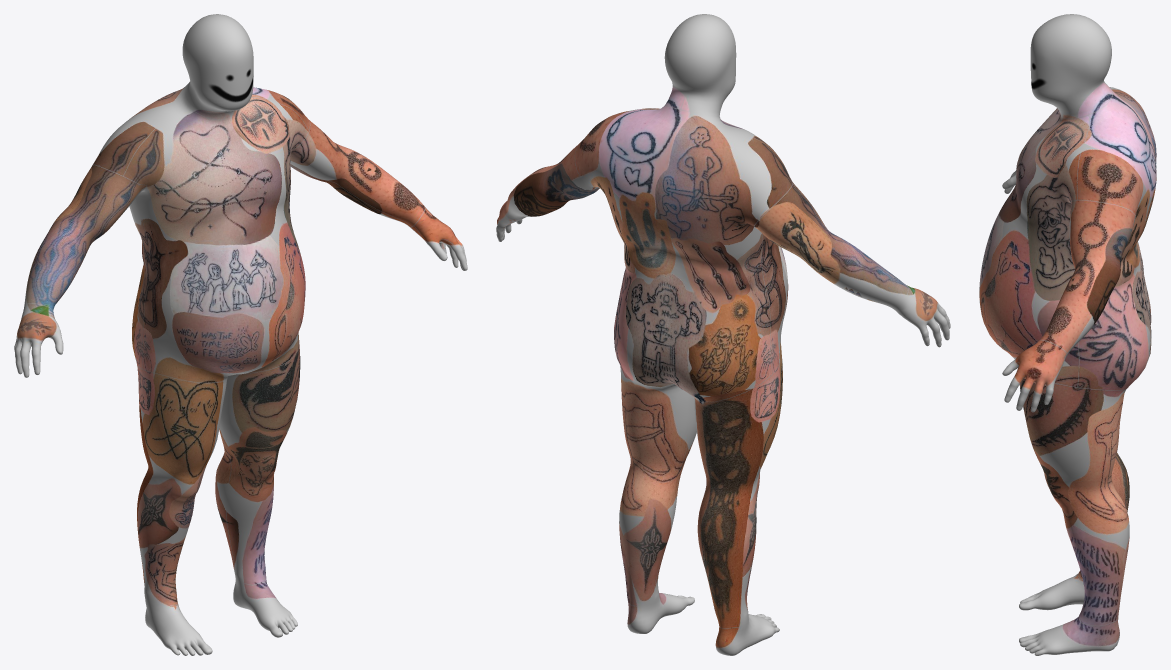
File: final-tat-man.glb
3 views of the same model, side by side, from view 1: azimuth 30°, elevation 25°; view 2: azimuth 150°, elevation 25°; view 3: azimuth 270°, elevation 25° (orthographic).
Visible parts, largest first — view 1: model_human_curvy_male_mesh_n3d; view 2: model_human_curvy_male_mesh_n3d; view 3: model_human_curvy_male_mesh_n3d.
Part boxes in pixels (x1,y1,x2,y2): model_human_curvy_male_mesh_n3d: [14, 14, 467, 655]; model_human_curvy_male_mesh_n3d: [496, 14, 950, 655]; model_human_curvy_male_mesh_n3d: [979, 14, 1156, 655].
Bounding box in the file's own units: 1.37 × 1.8 × 0.4739.
Materials: 1 (1 with a texture image).
